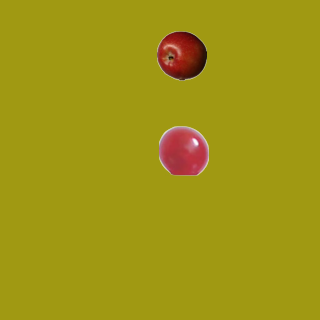Apple Braeburn: (156, 30, 206, 80)
Redcurrant: (158, 125, 208, 175)
